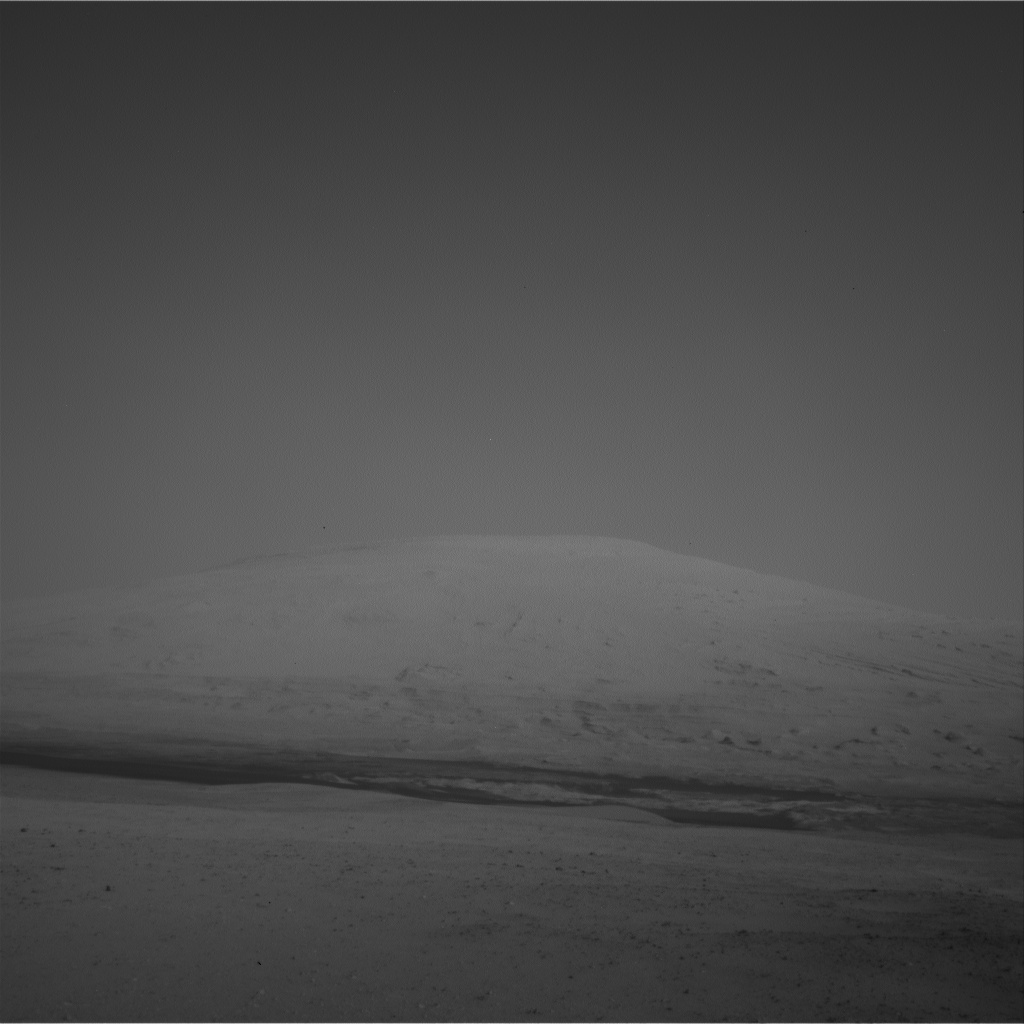soil: (4, 925, 1020, 1018)
